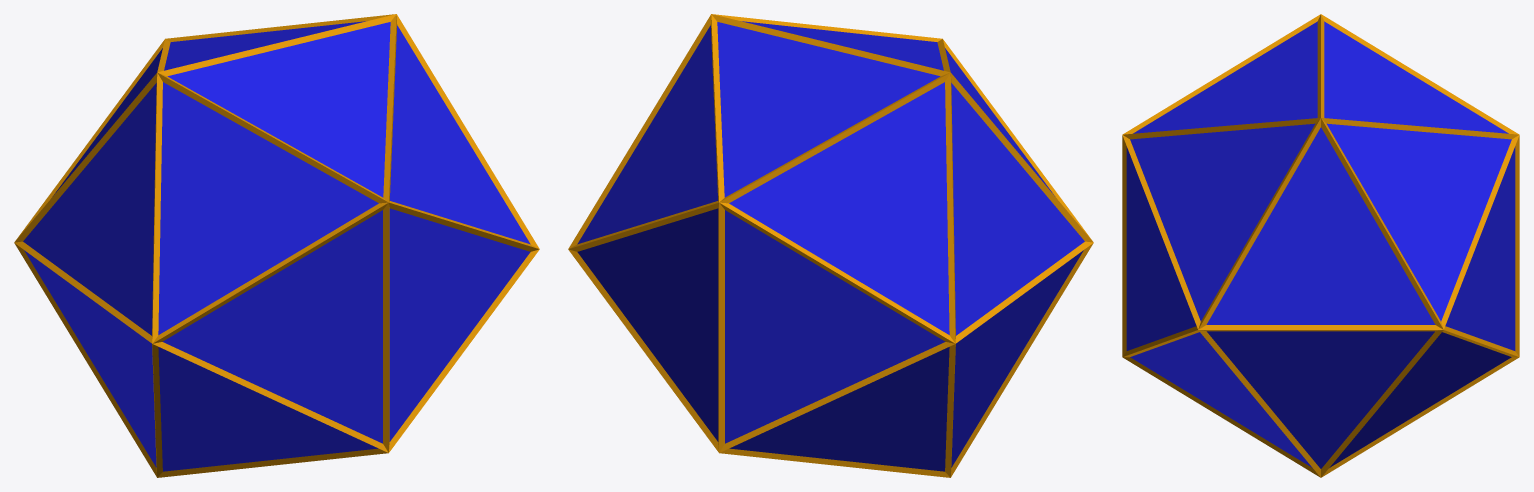
3 renders of one model, left to right at view 1: azimuth 30°, elevation 25°; view 2: azimuth 150°, elevation 25°; view 3: azimuth 270°, elevation 25°, orthographic. The views are drawn at different scales.
Parts seen in each view (by area): view 1: d20; view 2: d20; view 3: d20.
Part boxes in pixels (x1,y1,x2,y2): d20: [14, 14, 539, 477]; d20: [568, 14, 1093, 477]; d20: [1122, 14, 1519, 477].
Bounding box in the file's own units: 3.29 × 3.29 × 3.29.
